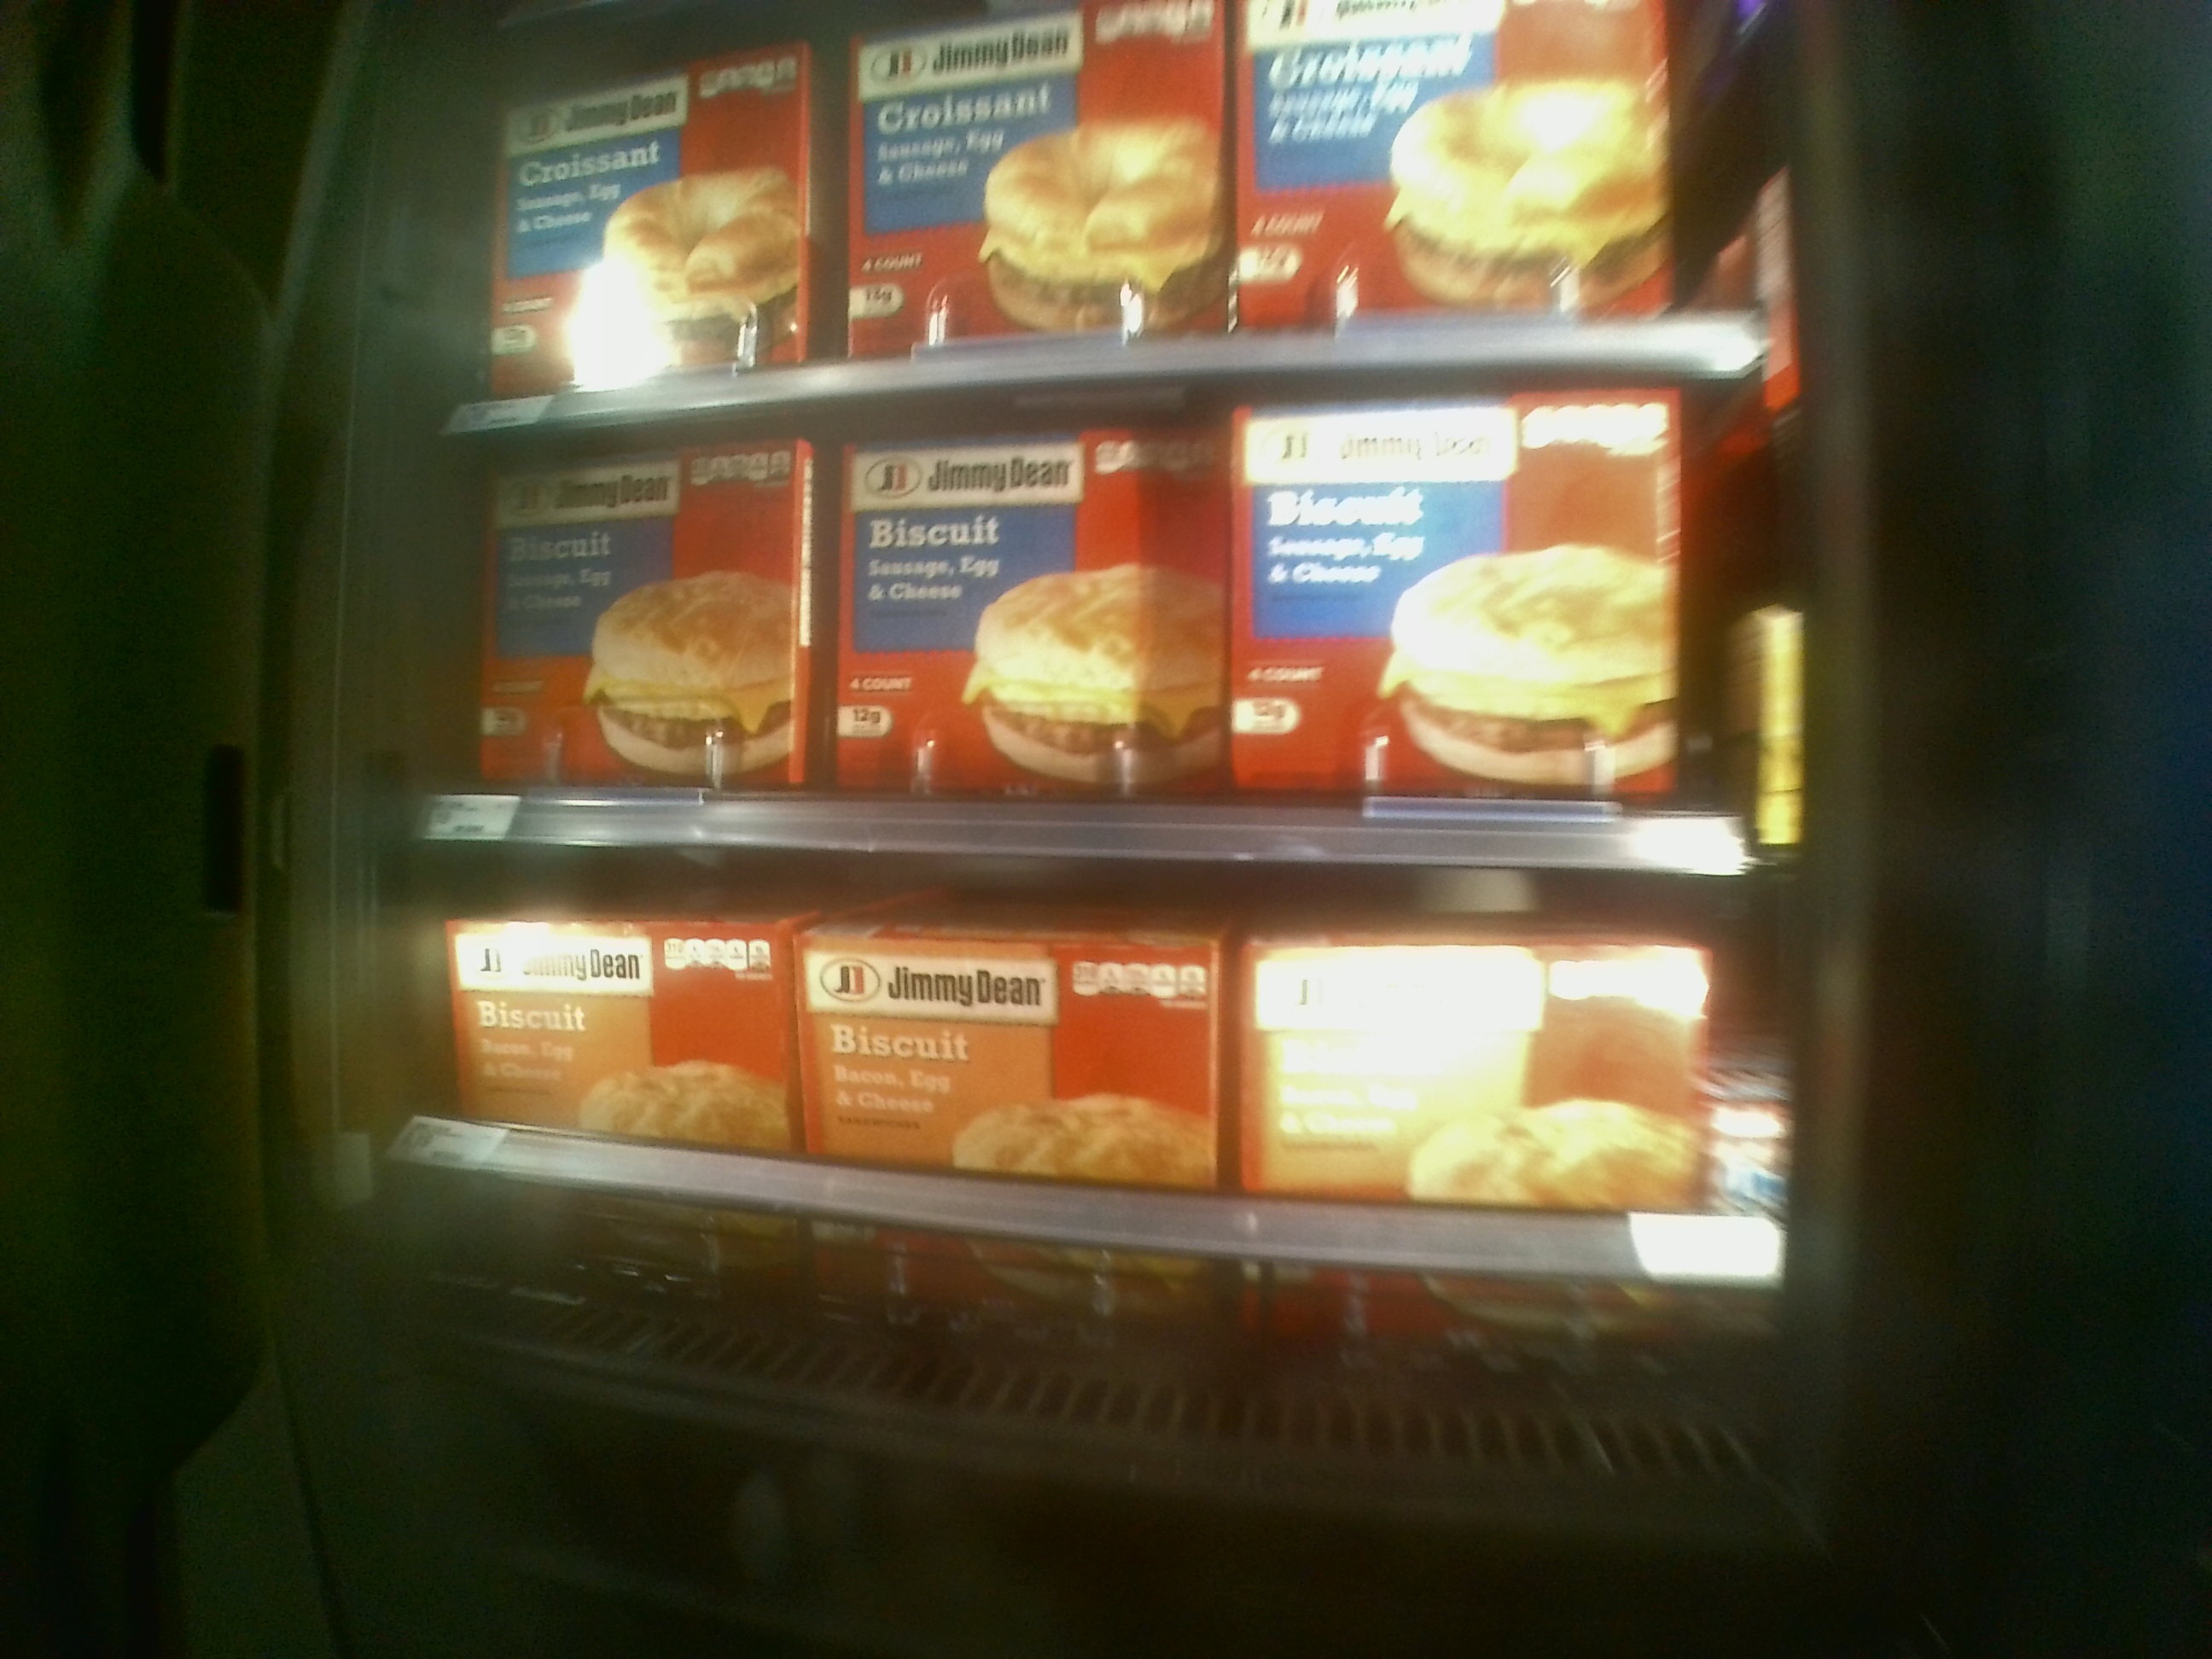shelf: (409, 847, 1799, 1389), (432, 375, 1789, 868)
